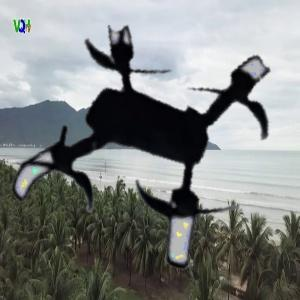drone: (4, 11, 292, 299)
